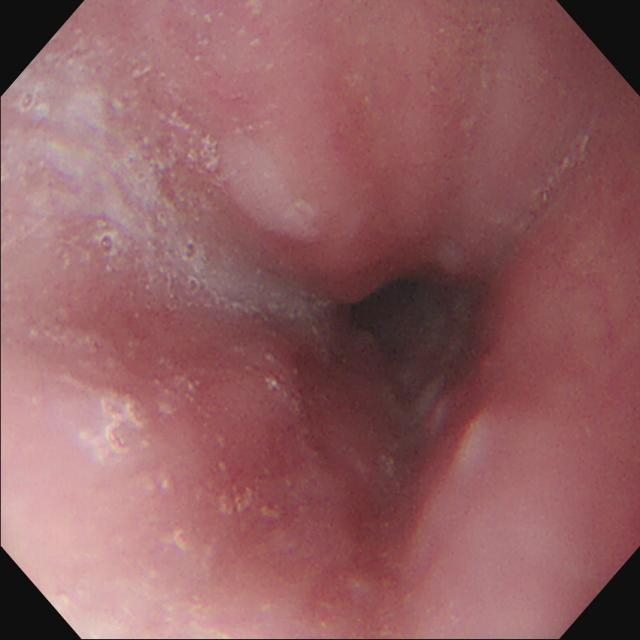E: (349, 274, 462, 352)
J: (29, 153, 332, 321)
